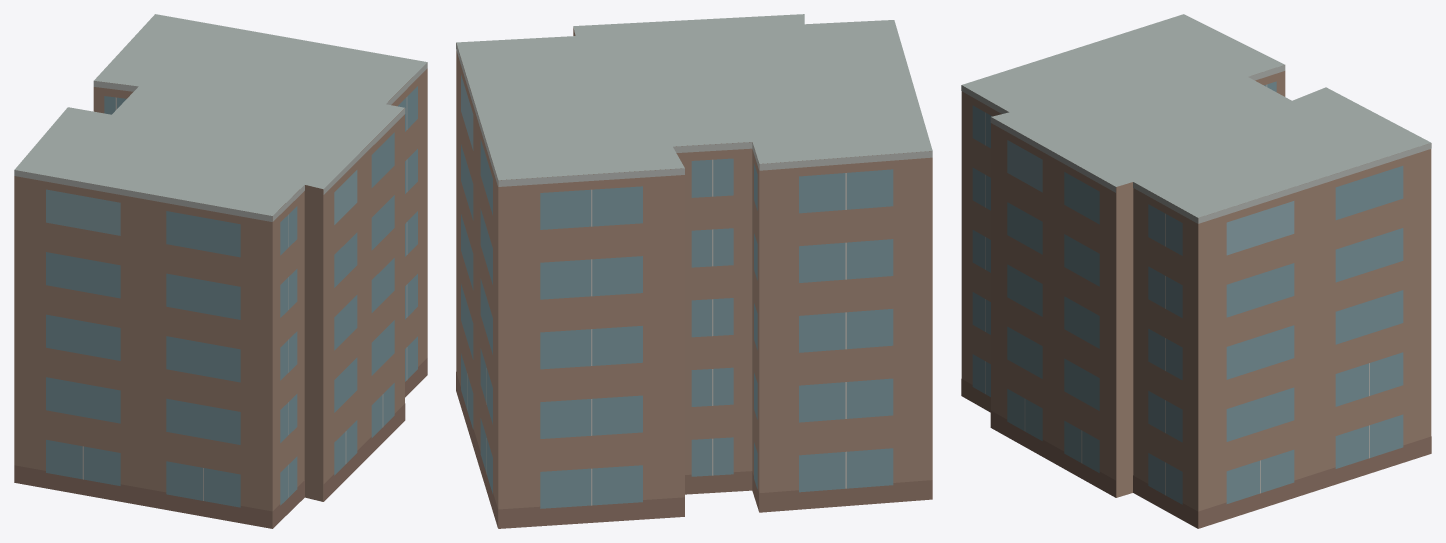
File: survey-upis-32677268.glb
3 renders of one model, left to right at view 1: azimuth 30°, elevation 25°; view 2: azimuth 150°, elevation 25°; view 3: azimuth 270°, elevation 25°, orthographic. The views are drawn at different scales.
Parts seen in each view (by area): view 1: survey-upis-32677268.tmp; view 2: survey-upis-32677268.tmp; view 3: survey-upis-32677268.tmp.
Boxes of the visible parts, <box> form: survey-upis-32677268.tmp: <box>14,14,427,528</box>; survey-upis-32677268.tmp: <box>456,14,932,528</box>; survey-upis-32677268.tmp: <box>961,14,1431,528</box>.
Size of the model in its own units: 17.73 by 12.6 by 17.27.
